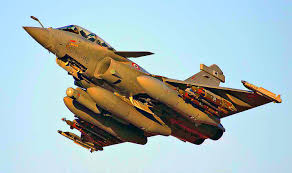fighter: (21, 17, 285, 154)
